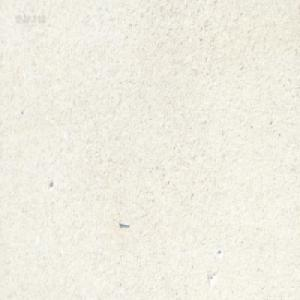Nail: (118, 219, 129, 227)
